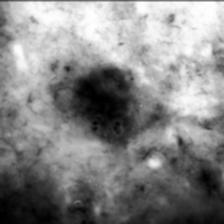Potentially Malignant Skin Tumors: (80, 66, 128, 142)
